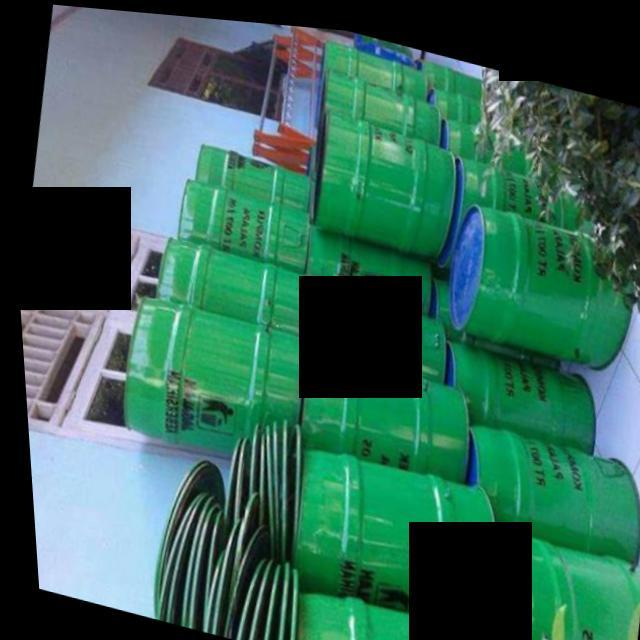bin: (45, 265, 317, 490), (264, 425, 511, 631), (422, 186, 631, 373), (276, 320, 480, 481), (282, 106, 461, 272), (445, 406, 640, 556), (431, 330, 612, 466), (429, 114, 607, 236), (460, 521, 640, 640), (143, 230, 307, 352), (286, 45, 450, 167), (299, 275, 464, 395), (158, 123, 319, 232), (257, 578, 535, 640), (154, 162, 306, 272)
